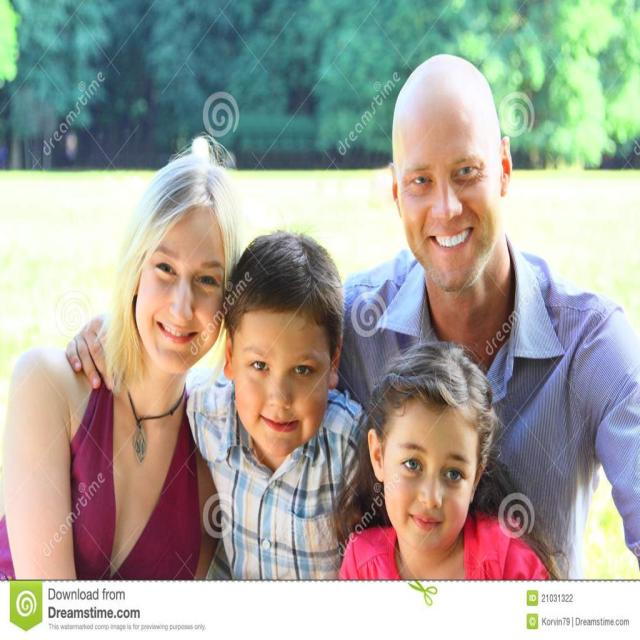Face: (217, 287, 354, 464), (388, 109, 514, 292), (119, 204, 234, 379), (379, 394, 501, 558)
